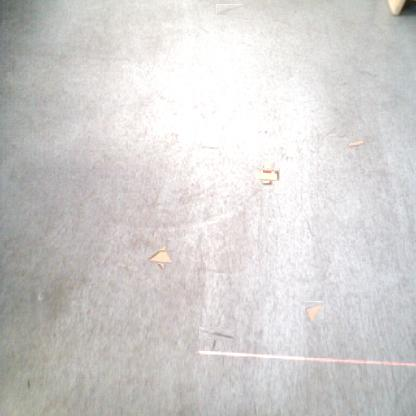dirty: (304, 302, 325, 322), (150, 247, 170, 267), (259, 165, 277, 183), (346, 139, 364, 149)
mark: (205, 320, 229, 346), (216, 4, 243, 15), (26, 379, 32, 394)
